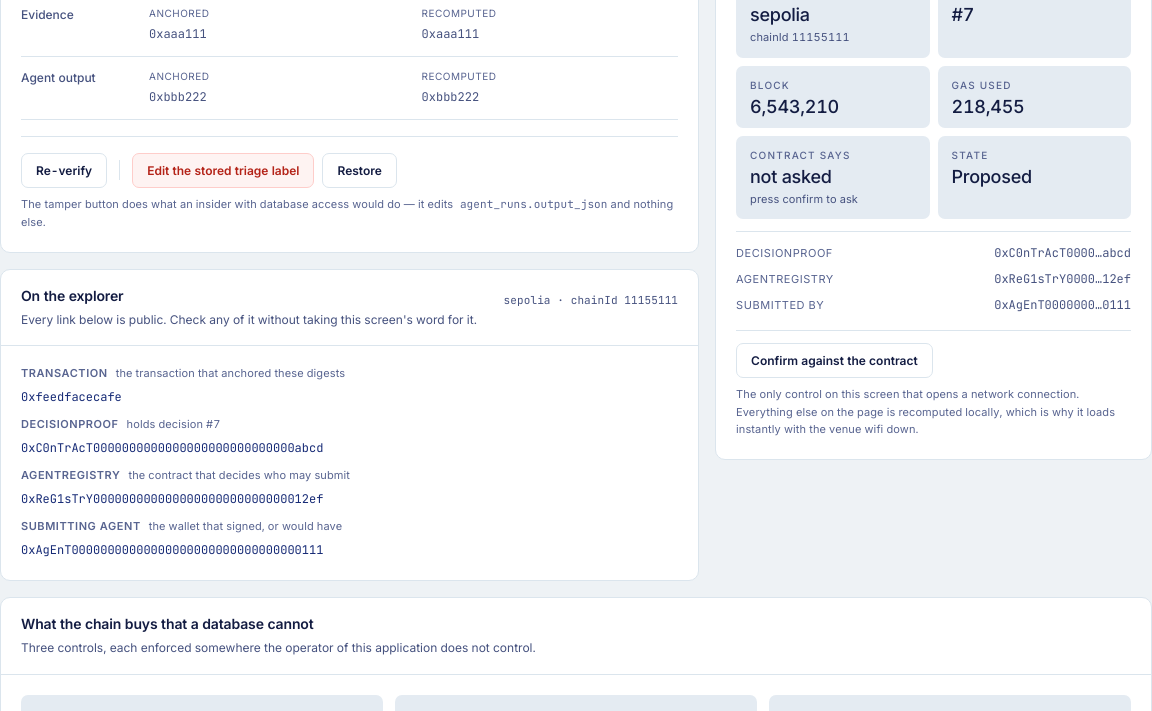
proof screen › reaches the contract only when explicitly asked
This screenshot has width=1152, height=711.
(page scrolled)
What coordinates should you click on to do the following:
click the button "Confirm against the contract"
I would click on:
 (834, 360)
Its box is left=736, top=343, right=933, bottom=378.
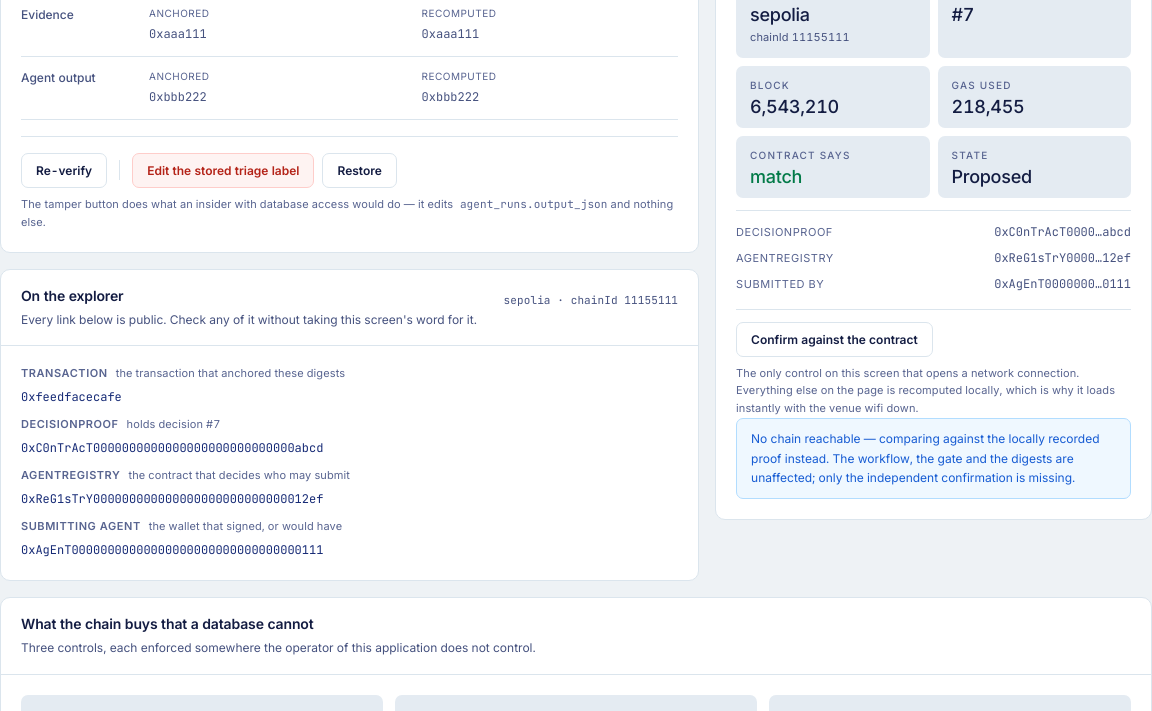
Expected: the text "match" is shown, left=750, top=166, right=802, bottom=186
